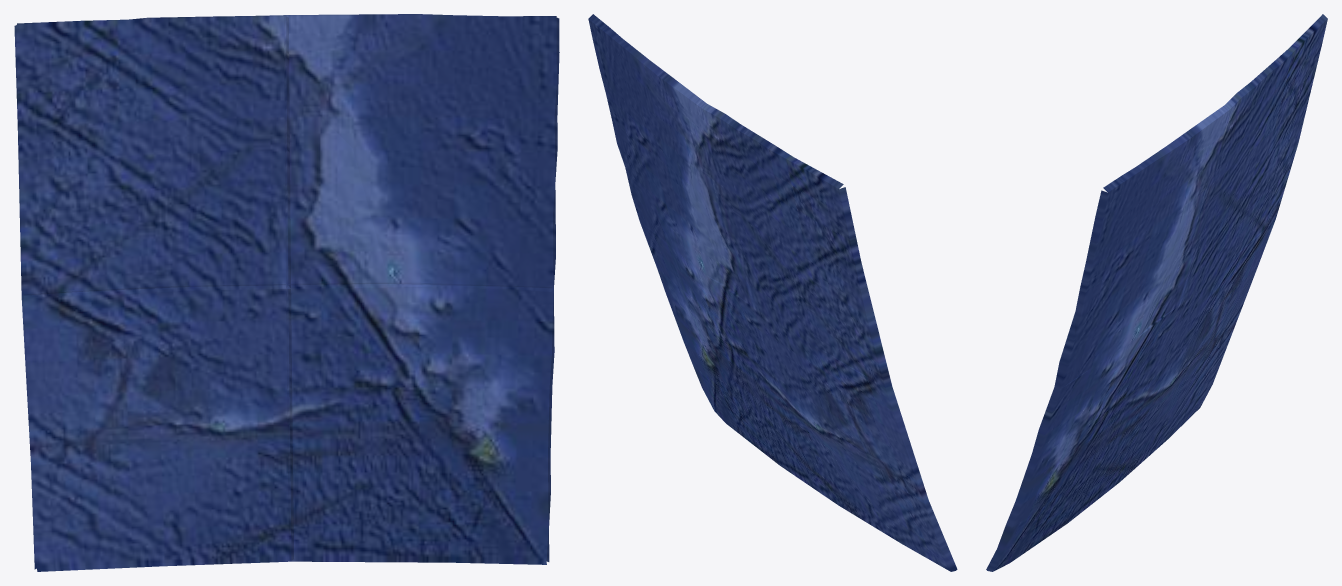
3 views of the same model, side by side, from view 1: azimuth 30°, elevation 25°; view 2: azimuth 150°, elevation 25°; view 3: azimuth 270°, elevation 25° (orthographic). The views are drawn at different scales.
Bounding box in the file's own units: 1235434 × 1208051 × 898917.
1 material, 1 textured.
